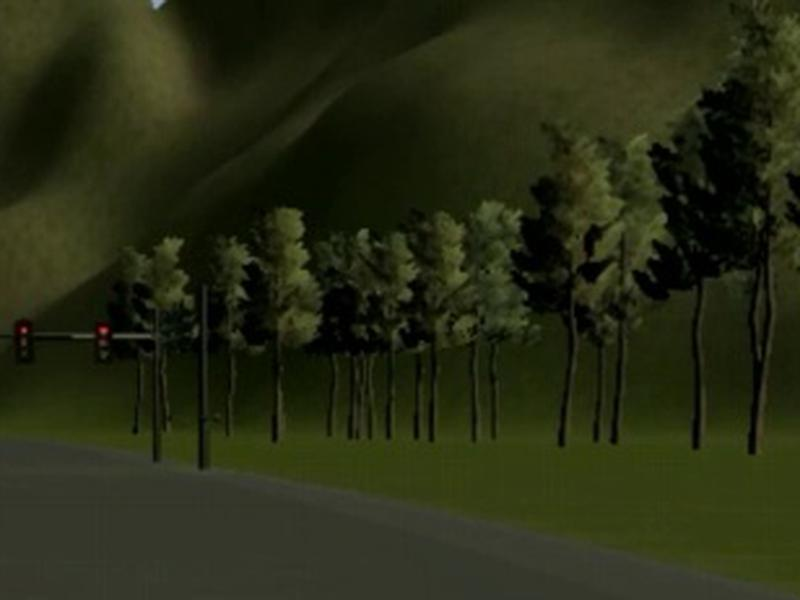Red: (95, 319, 116, 365), (14, 318, 34, 364)
